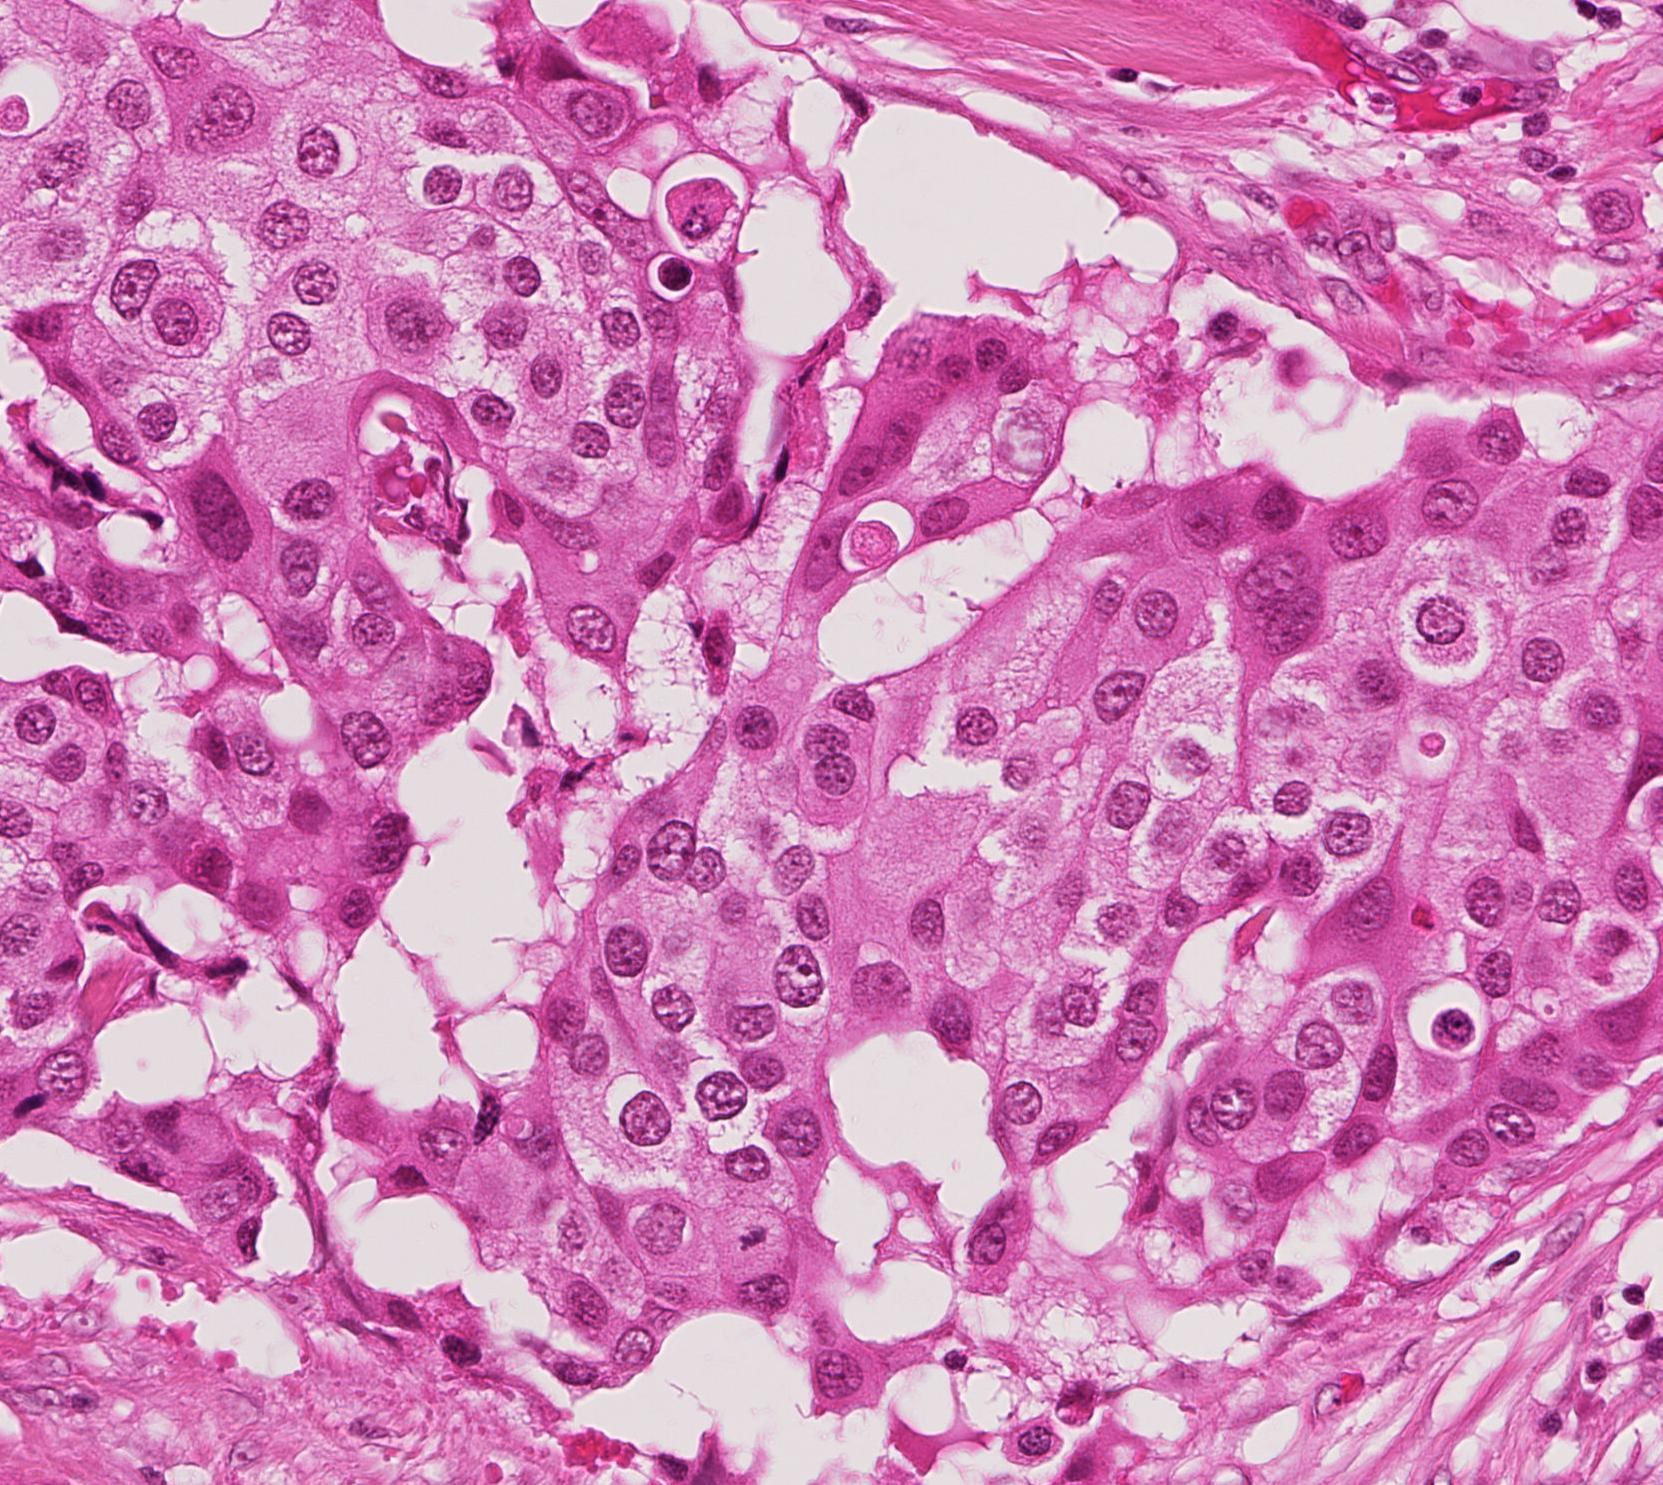mitosis: (721, 1205, 781, 1266)
